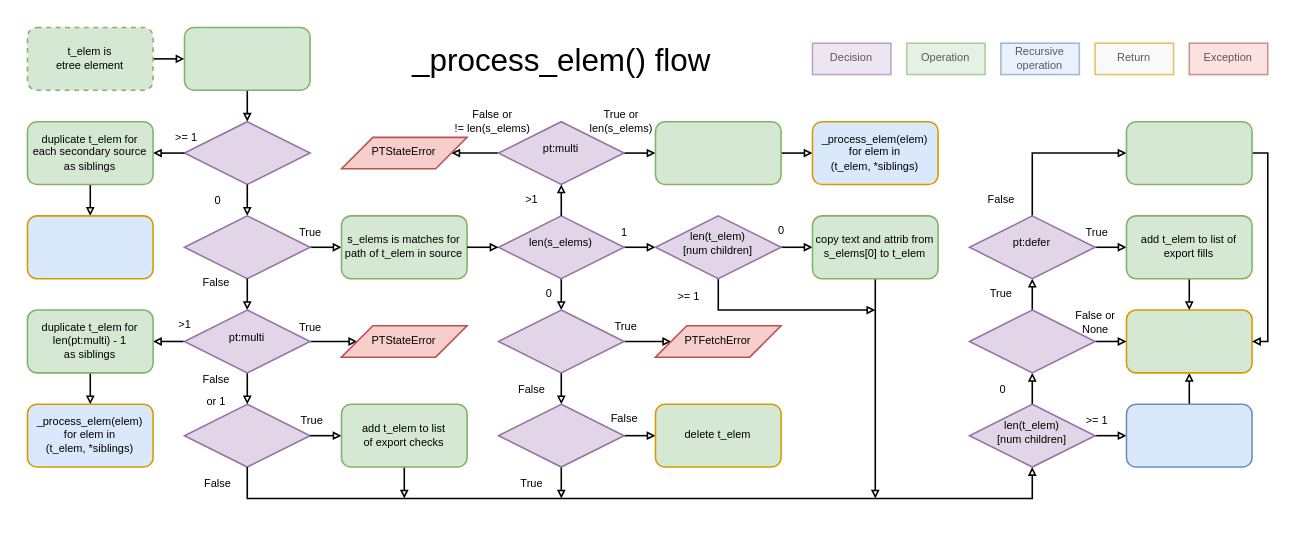
The diagram is 1303 pixels wide and 534 high, and some of its shapes have lost their labels. Here are the shapes that lost their labels. From the top down, the centre of each, then its label:
At point (246, 58): "initialise PTState; set XPath evaluation context to t_elem".
At point (246, 152): "len(secondary sources)".
At point (717, 152): "duplicate t_elem len(s_elems) - 1 times as siblings".
At point (1188, 152): "t_elem.text = eval of fill XPath expression".
At point (89, 246): "_process_elem(elem) for elem in (t_elem, *siblings) [assign each a source]".
At point (246, 246): "pt:fetch".
At point (560, 341): "pt:required".
At point (1031, 341): "pt:fill".
At point (1188, 341): "state.clear_elem_attrs()".
At point (246, 435): "pt:required (raw) is not None".
At point (560, 435): "pt:keep".
At point (1188, 435): "_process_elem(elem) for elem in t_elem.getchildren()".
